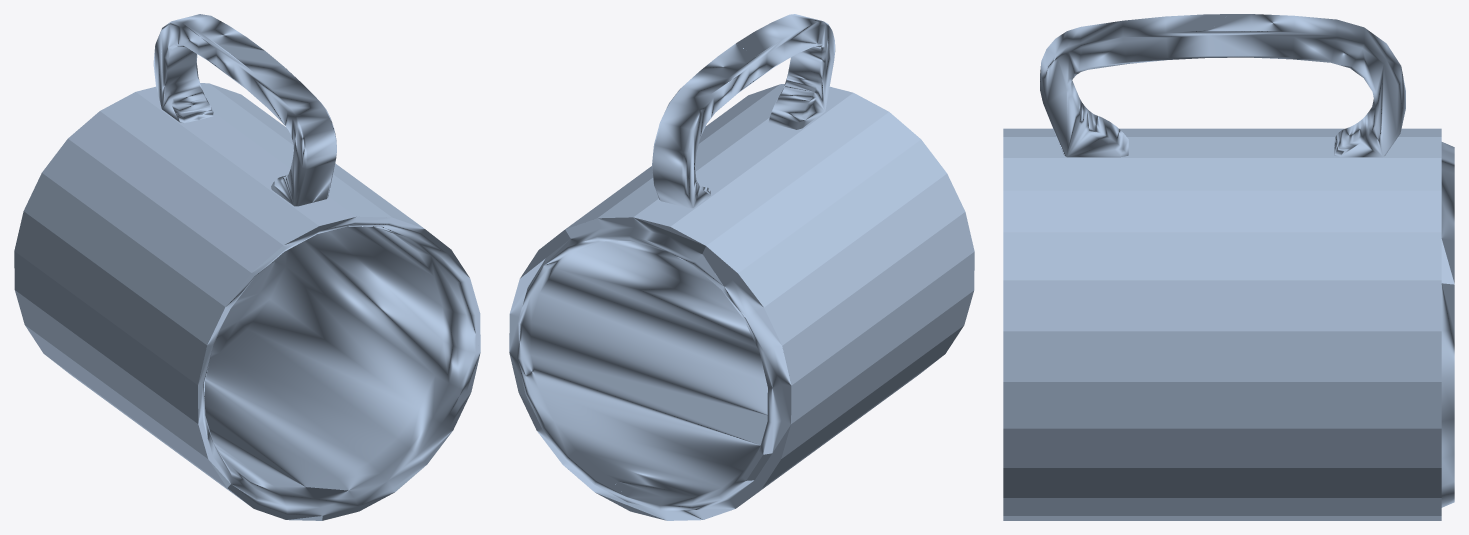
Rendered from model_align.obj.
The picture shows the model from 3 angles, left to right: view 1: azimuth 30°, elevation 25°; view 2: azimuth 150°, elevation 25°; view 3: azimuth 270°, elevation 25°; orthographic projection. The views are drawn at different scales.
Size of the model in its own units: 0.0793 by 0.1073 by 0.0918.
